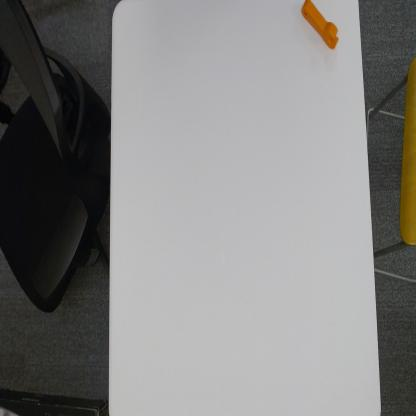Screwdriver: (300, 0, 340, 52)
